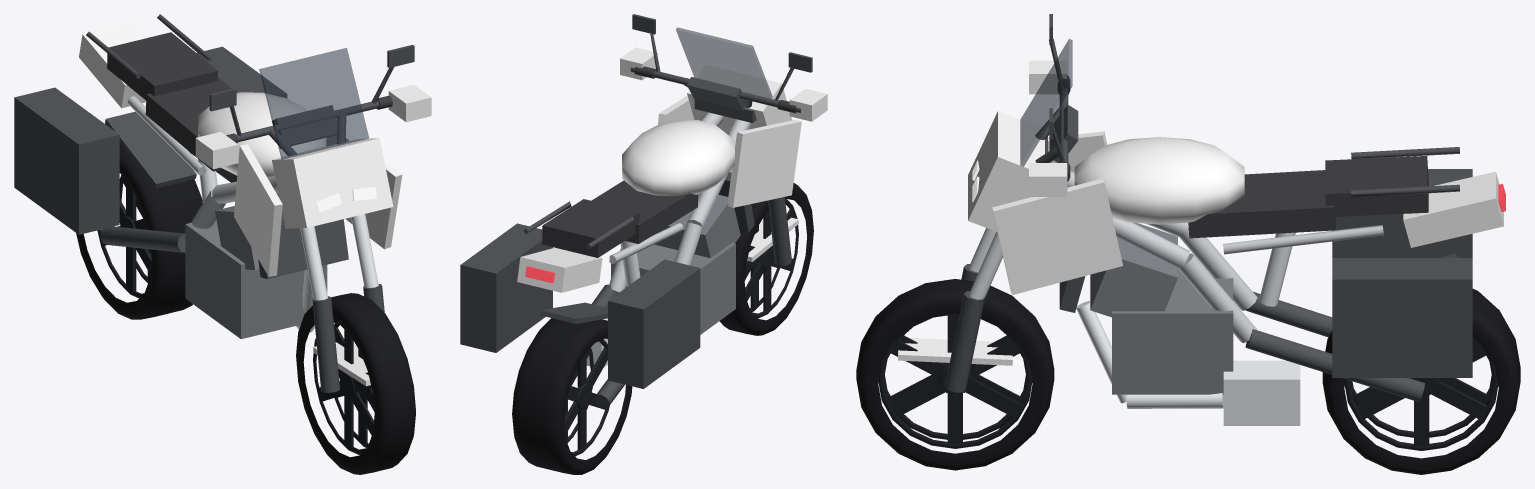
The model's file is yamaha_tracer7.lod.glb.
3 views of the same model, side by side, from view 1: azimuth 30°, elevation 25°; view 2: azimuth 150°, elevation 25°; view 3: azimuth 270°, elevation 25° (orthographic). The views are drawn at different scales.
Parts seen in each view (by area): view 1: body_trim (×2), body_paint (×2), tire (×2), body_glass, rim (×3), body_chrome (×2), headlights; view 2: body_trim (×2), body_paint (×2), tire (×2), rim (×3), body_glass, body_chrome; view 3: body_trim (×2), body_paint (×2), tire (×2), rim (×4), body_chrome (×2), body_glass.
Part boxes in pixels (x1,y1,x2,y2): body_trim (×2): (14,14,414,392); body_paint (×2): (79,22,431,386); tire (×2): (76,143,415,474); body_glass: (259,48,368,159); rim (×3): (97,180,374,455); body_chrome (×2): (197,159,378,332); headlights: (316,187,376,212); body_trim (×2): (460,14,812,407); body_paint (×2): (517,47,827,292); tire (×2): (512,183,813,474); rim (×3): (564,198,798,456); body_glass: (676,27,772,98); body_chrome: (586,241,640,367); body_trim (×2): (945,14,1472,401); body_paint (×2): (898,60,1503,365); tire (×2): (856,279,1520,474); rim (×4): (878,313,1498,450); body_chrome (×2): (968,228,1300,425); body_glass: (1020,39,1072,166).
Size of the model in its own units: 0.86 by 1.39 by 2.08.
